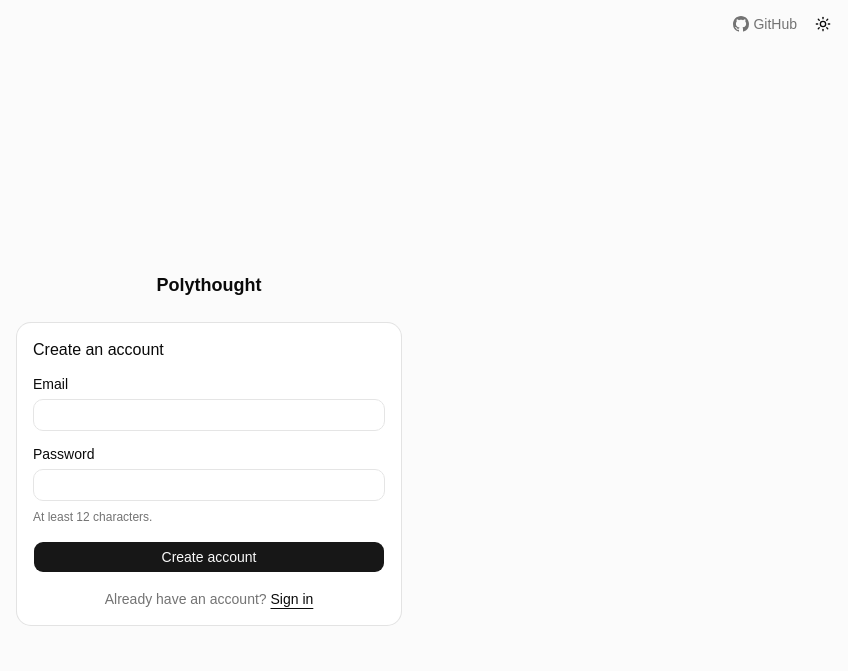
it: registering › shows what the server rejected
In the field labelled "Email": (209, 415) 33,399 -> 385,431, type "alice@example.com"
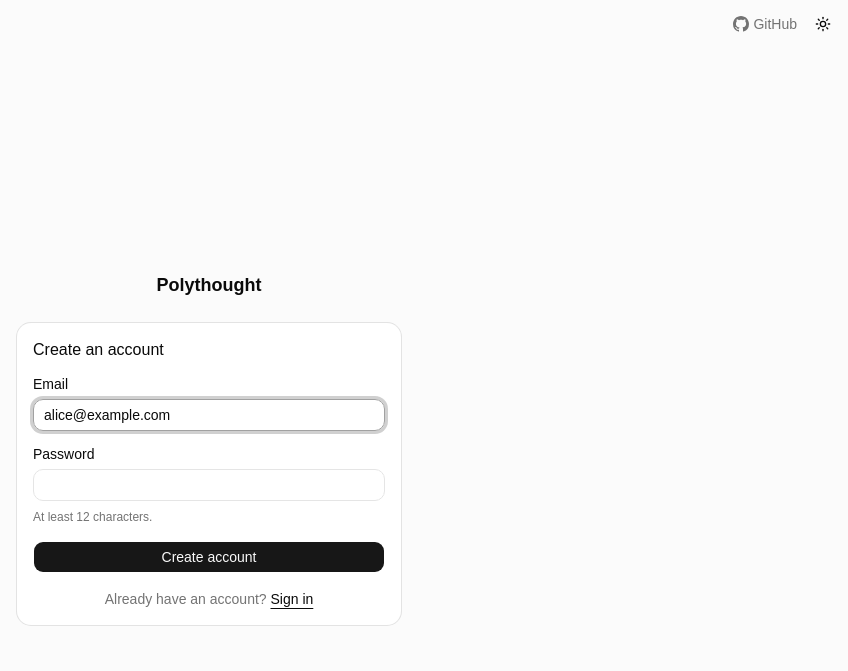
In the password field labelled "Password": (209, 485) 33,469 -> 385,501, type "a long enough password"
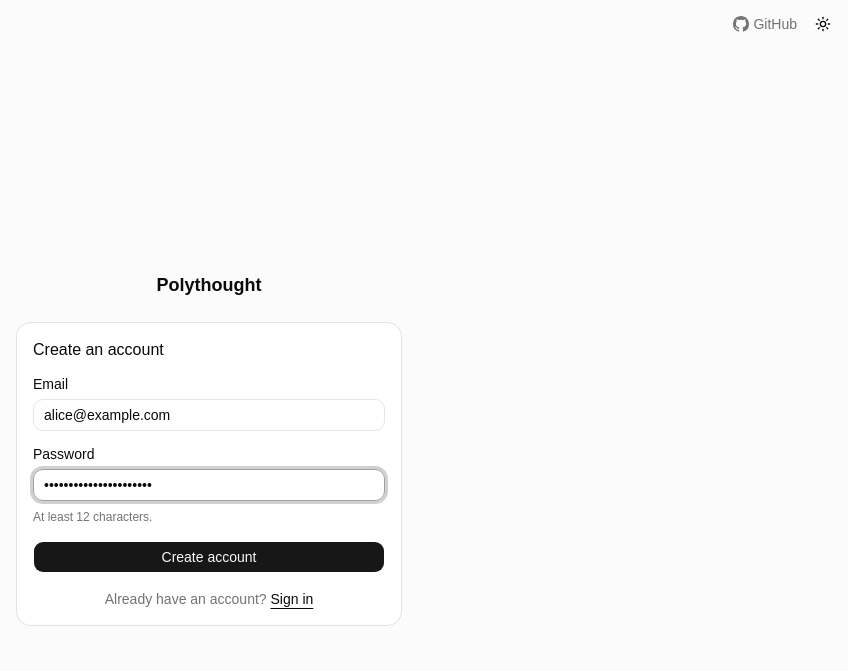
Click the button "Create account": (209, 557) 33,541 -> 385,573
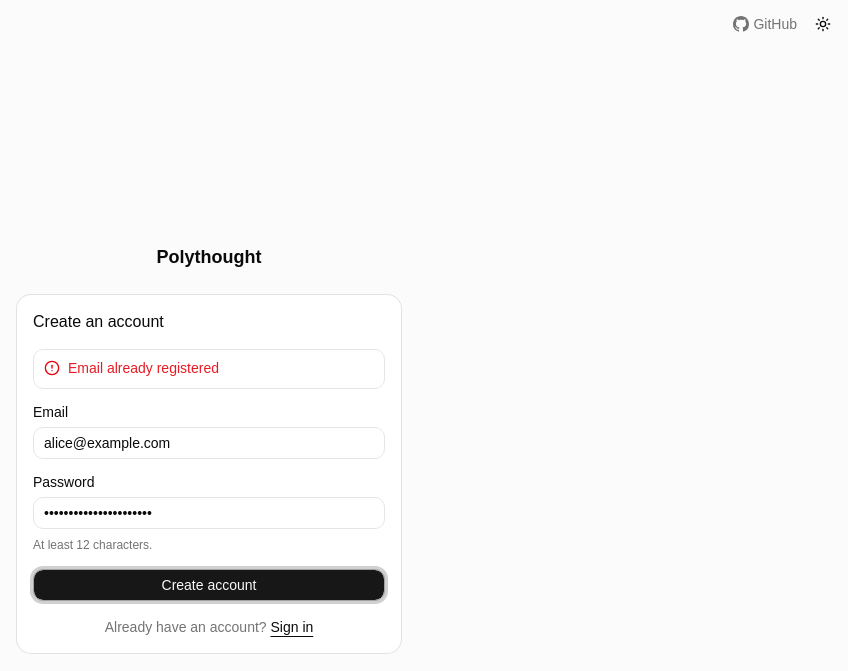
expect the text "Email already registered" is shown: met, box 68,360 -> 219,376
